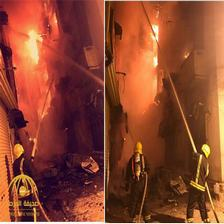fire: (6, 5, 24, 26)
